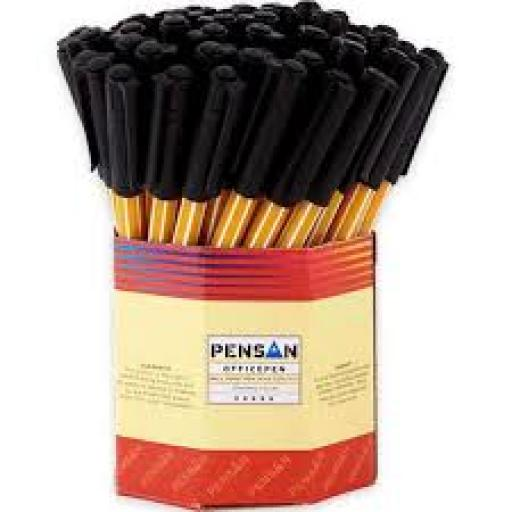tukenmez-kalem: (13, 0, 482, 251)
